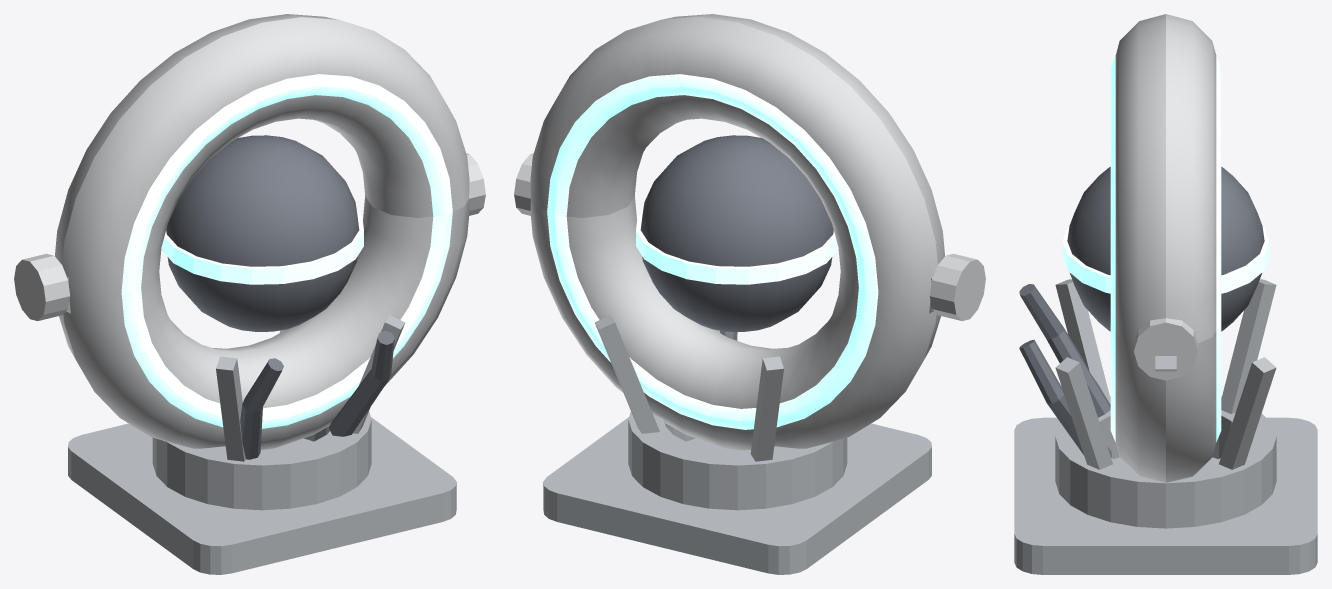
The model's file is ufo-crash-site-and-recovery-facility-engine-core-assem-930f9eba__17322.glb.
3 renders of one model, left to right at view 1: azimuth 30°, elevation 25°; view 2: azimuth 150°, elevation 25°; view 3: azimuth 270°, elevation 25°, orthographic.
Visible parts, largest first — view 1: engine-core-assembly; view 2: engine-core-assembly; view 3: engine-core-assembly.
Boxes of the visible parts, x1,y1,x2,y2 form: engine-core-assembly: [14, 14, 485, 574]; engine-core-assembly: [514, 14, 985, 574]; engine-core-assembly: [1014, 14, 1317, 574].
Bounding box in the file's own units: 2.93 × 2.94 × 1.7.
